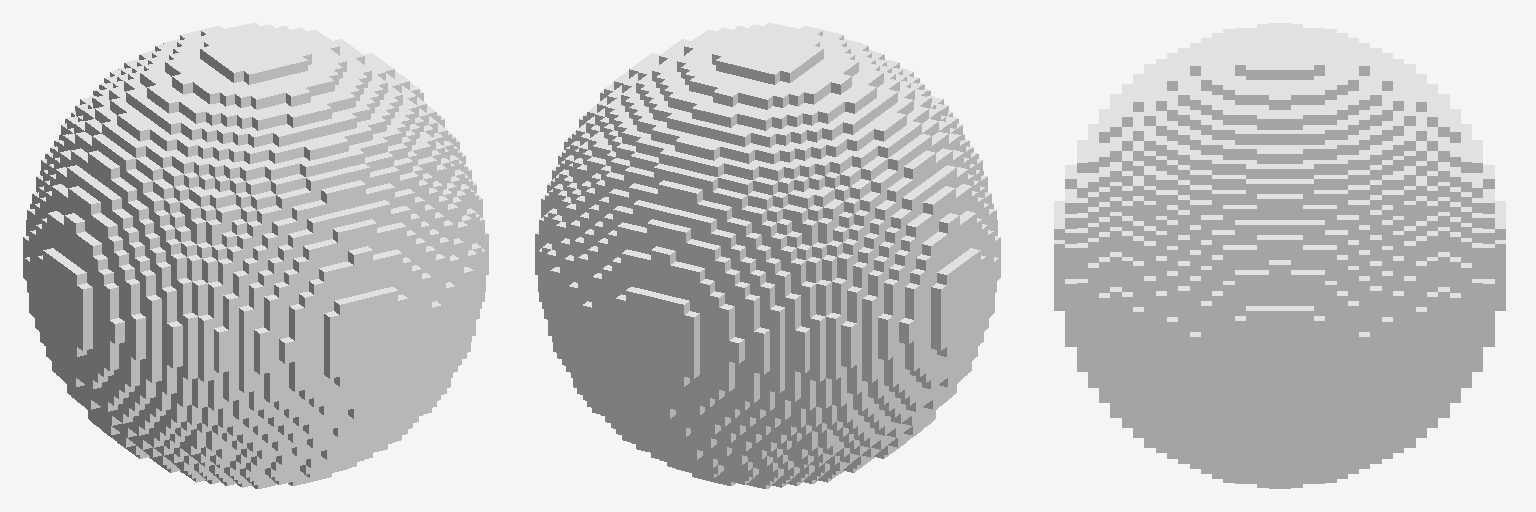
The model's file is eyeDec-6-sphere.obj.
3 views of the same model, side by side, from view 1: azimuth 30°, elevation 25°; view 2: azimuth 150°, elevation 25°; view 3: azimuth 270°, elevation 25° (orthographic).
Visible parts, largest first — view 1: sphere; view 2: sphere; view 3: sphere.
Boxes of the visible parts, x1,y1,x2,y2 form: sphere: [23, 23, 488, 488]; sphere: [535, 23, 1000, 488]; sphere: [1054, 23, 1505, 488].
Size of the model in its own units: 4 by 4 by 4.